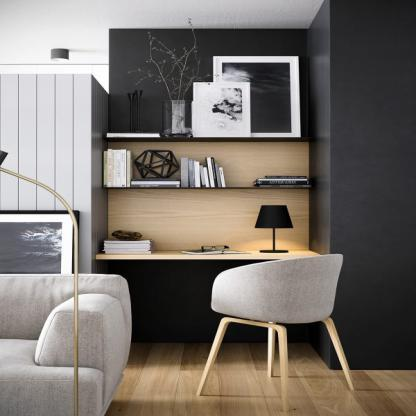chair: (190, 238, 365, 412)
light: (252, 202, 300, 252)
sofa: (0, 265, 140, 416)
table: (92, 242, 324, 350)
